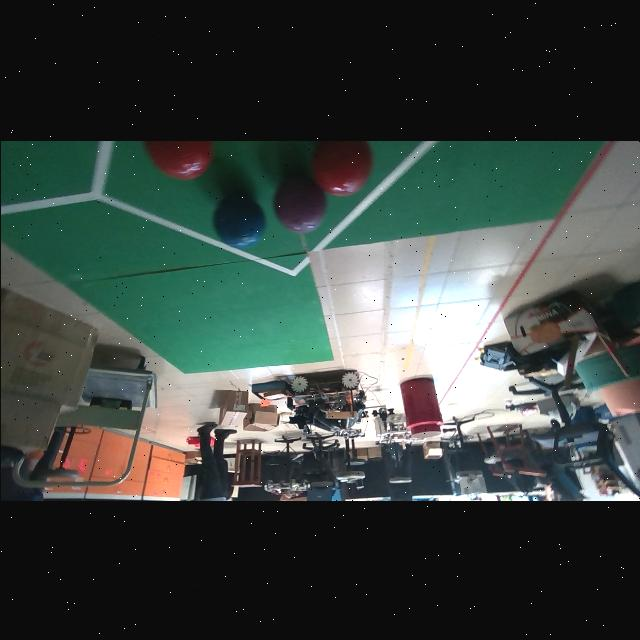B: (213, 193, 264, 247)
P: (274, 175, 326, 231)
R: (311, 140, 372, 195), (145, 140, 212, 178)
